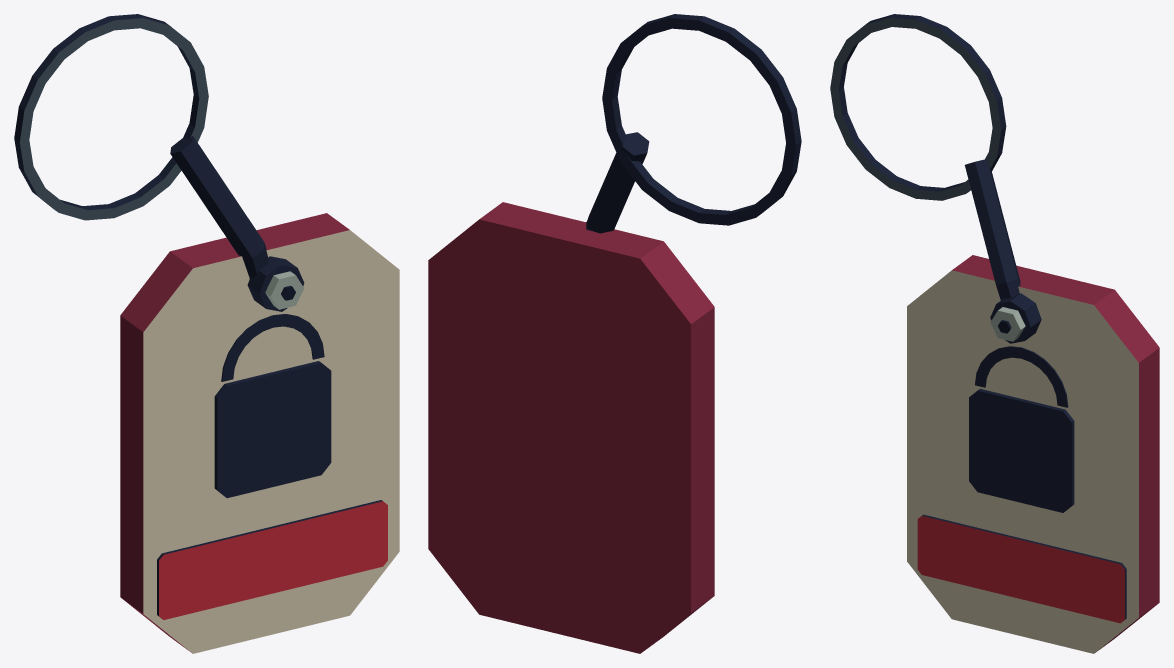
Rendered from isolation_tag.glb.
The picture shows the model from 3 angles, left to right: view 1: azimuth 30°, elevation 25°; view 2: azimuth 150°, elevation 25°; view 3: azimuth 330°, elevation 25°; orthographic projection. The views are drawn at different scales.
Parts seen in each view (by area): view 1: Lockout_tag, Danger_stripe, Padlock, Lanyard, Tag_eyelet; view 2: Lockout_tag, Lanyard; view 3: Lockout_tag, Danger_stripe, Padlock, Lanyard, Tag_eyelet.
Part boxes in pixels (bbox=[...]): Lockout_tag: bbox=[120, 213, 399, 653]; Danger_stripe: bbox=[157, 500, 387, 619]; Padlock: bbox=[214, 314, 331, 498]; Lanyard: bbox=[14, 14, 268, 278]; Tag_eyelet: bbox=[247, 256, 304, 311]; Lockout_tag: bbox=[428, 202, 714, 653]; Lanyard: bbox=[586, 14, 801, 233]; Lockout_tag: bbox=[907, 255, 1159, 653]; Danger_stripe: bbox=[917, 514, 1126, 623]; Padlock: bbox=[969, 346, 1074, 512]; Lanyard: bbox=[830, 14, 1020, 300]; Tag_eyelet: bbox=[990, 293, 1041, 343].
Size of the model in its own units: 0.225 by 0.378 by 0.0487.
